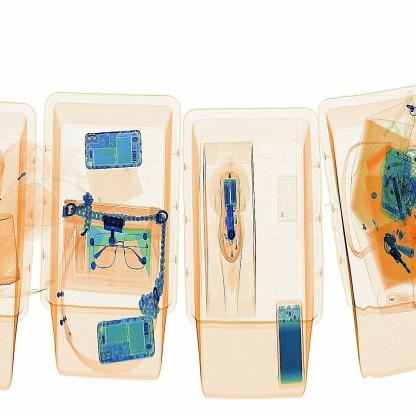knife: (217, 199, 248, 243)
